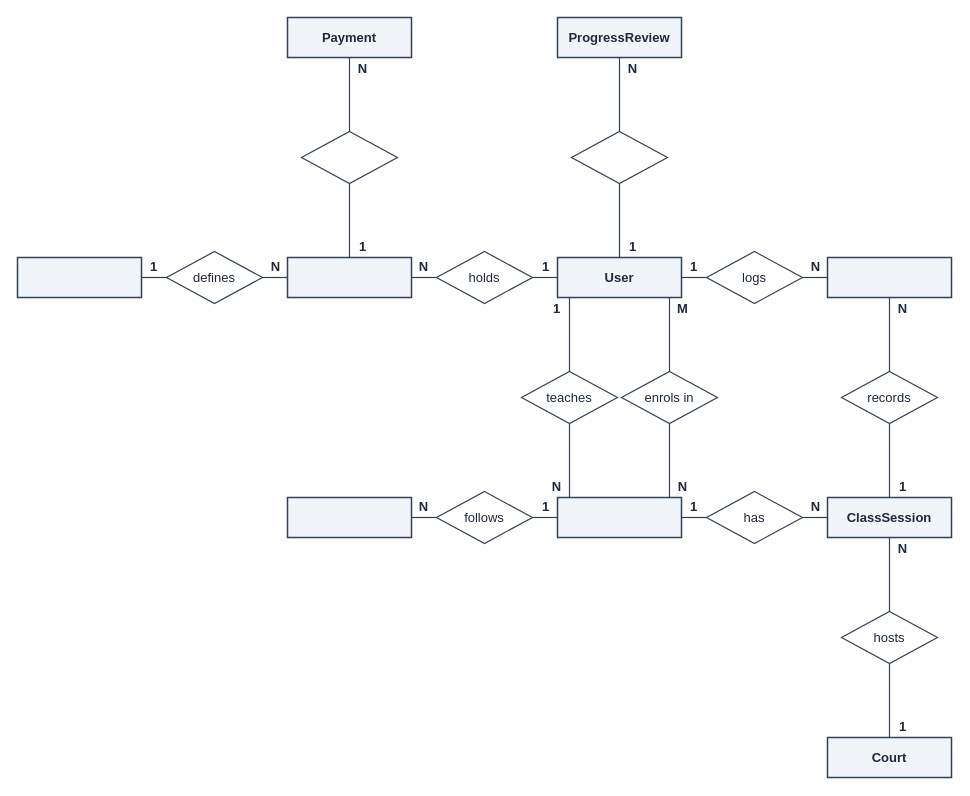
Image size: 970x796. Some labels were removed from this diagram. The shapes that lost their labels are listed below. From the top down, each one's centre as x and y in pixels, then its label:
At point (349, 157): "settles".
At point (619, 157): "receives".
At point (79, 277): "MembershipPlan".
At point (349, 277): "Subscription".
At point (889, 277): "Attendance".
At point (349, 517): "TrainingPlan".
At point (619, 517): "TrainingClass".
